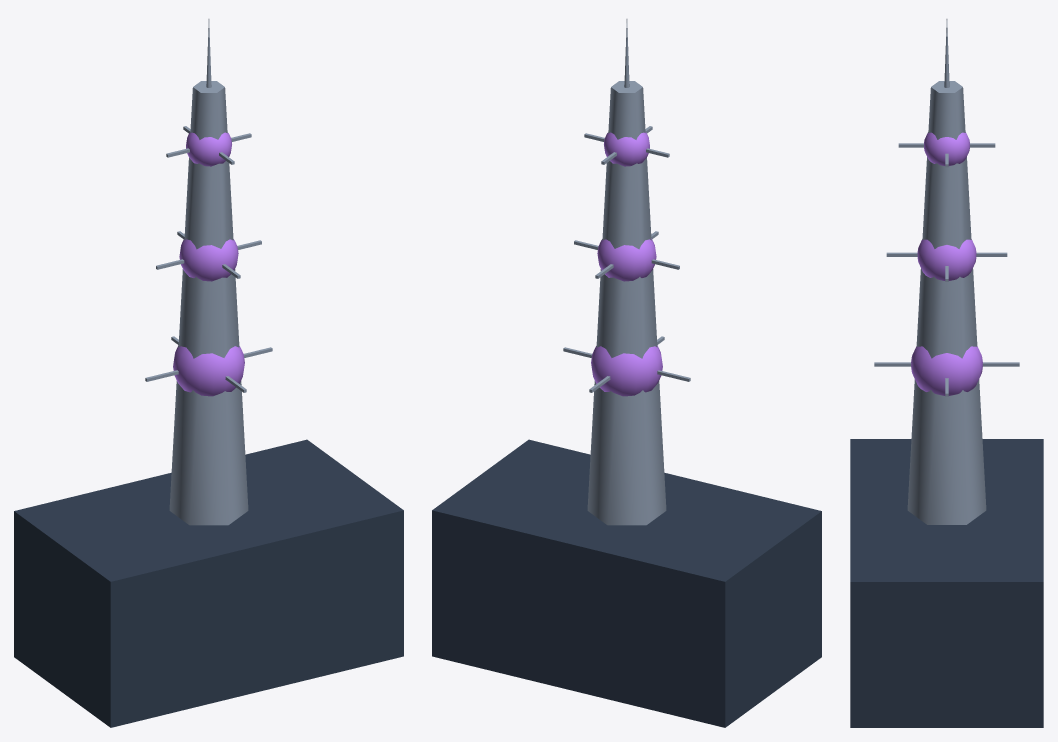
File: esm_station.glb
3 views of the same model, side by side, from view 1: azimuth 30°, elevation 25°; view 2: azimuth 150°, elevation 25°; view 3: azimuth 270°, elevation 25° (orthographic).
Size of the model in its own units: 4.2 by 8.8 by 2.4.
